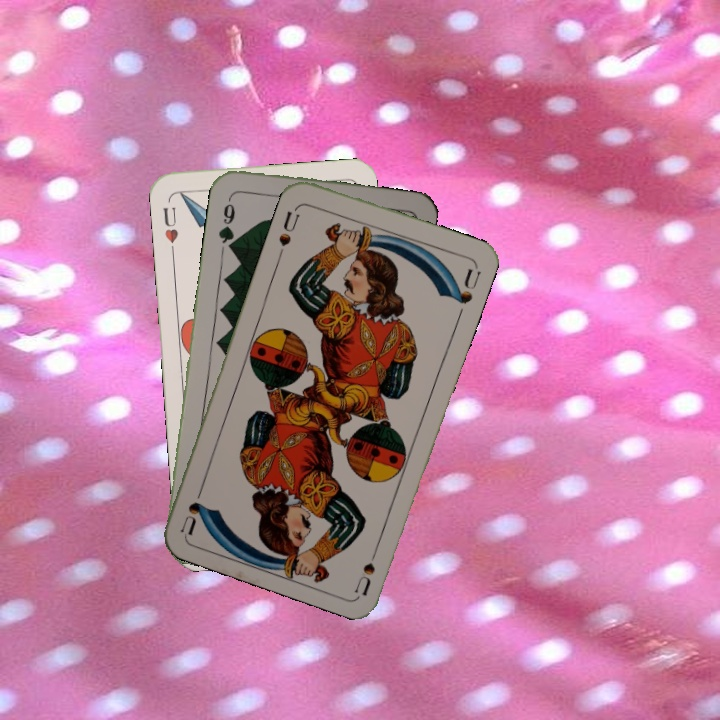G9: (214, 191, 238, 251)
HU: (159, 202, 181, 246)
SU: (350, 538, 383, 596), (275, 202, 303, 249)
